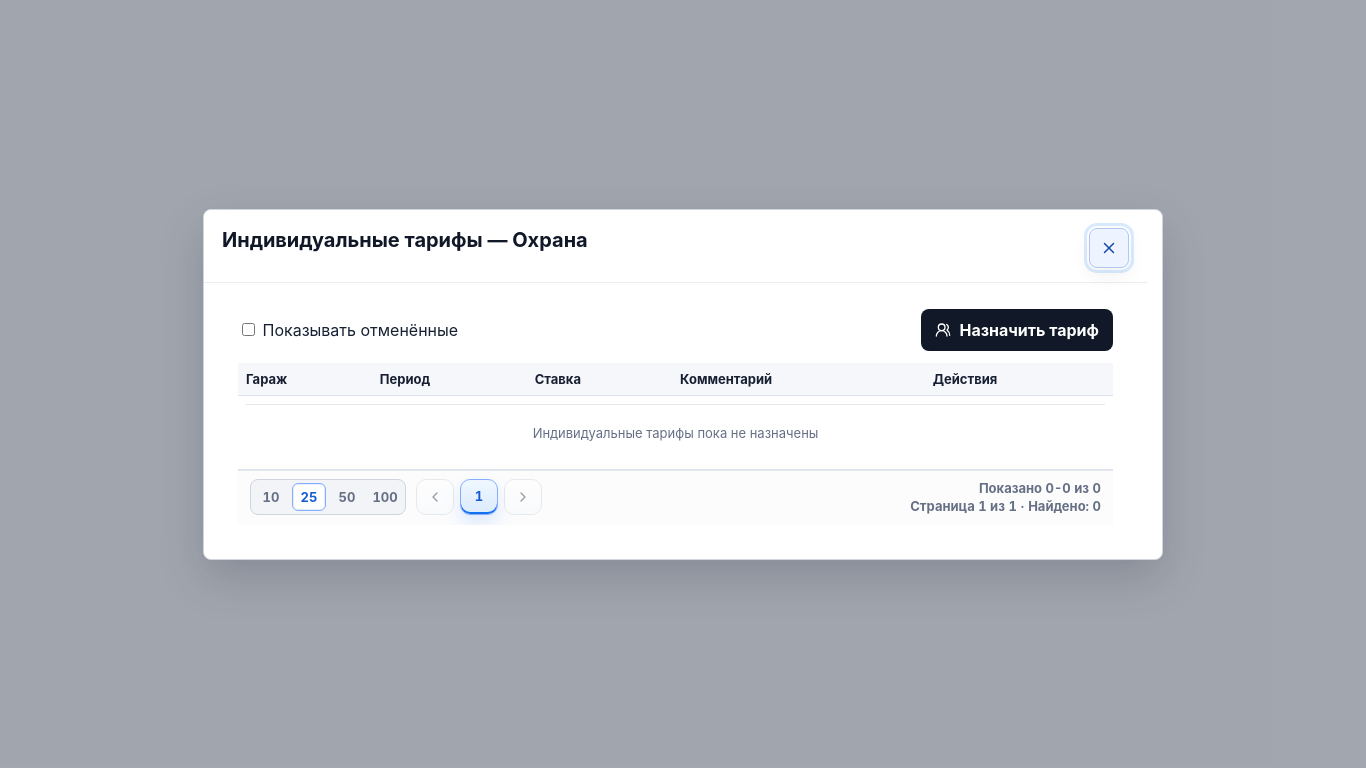
Scenario: retries garage loading and ignores an aborted search response
Click the button "Назначить тариф".
click(1017, 330)  # box [921,308,1113,350]
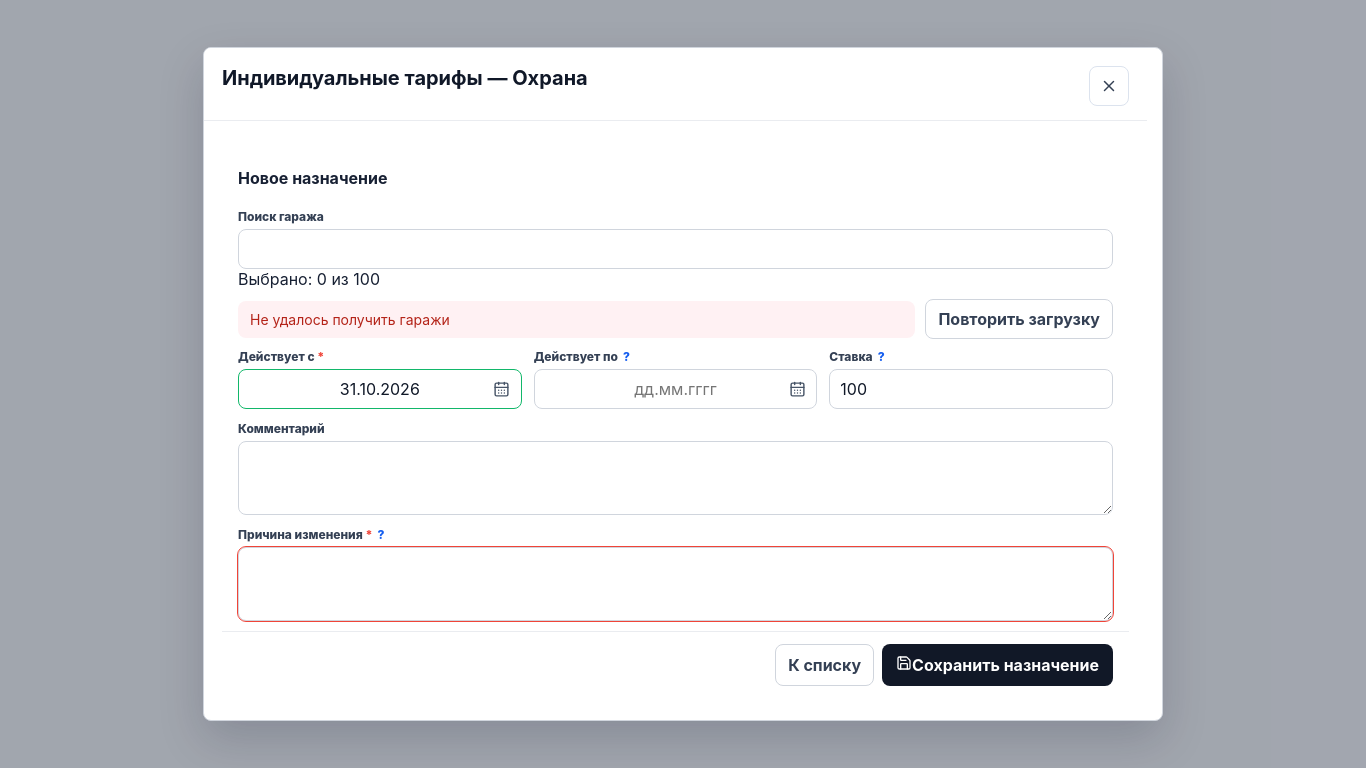
Click the button "Повторить загрузку".
click(1019, 319)  # box [925,299,1113,339]
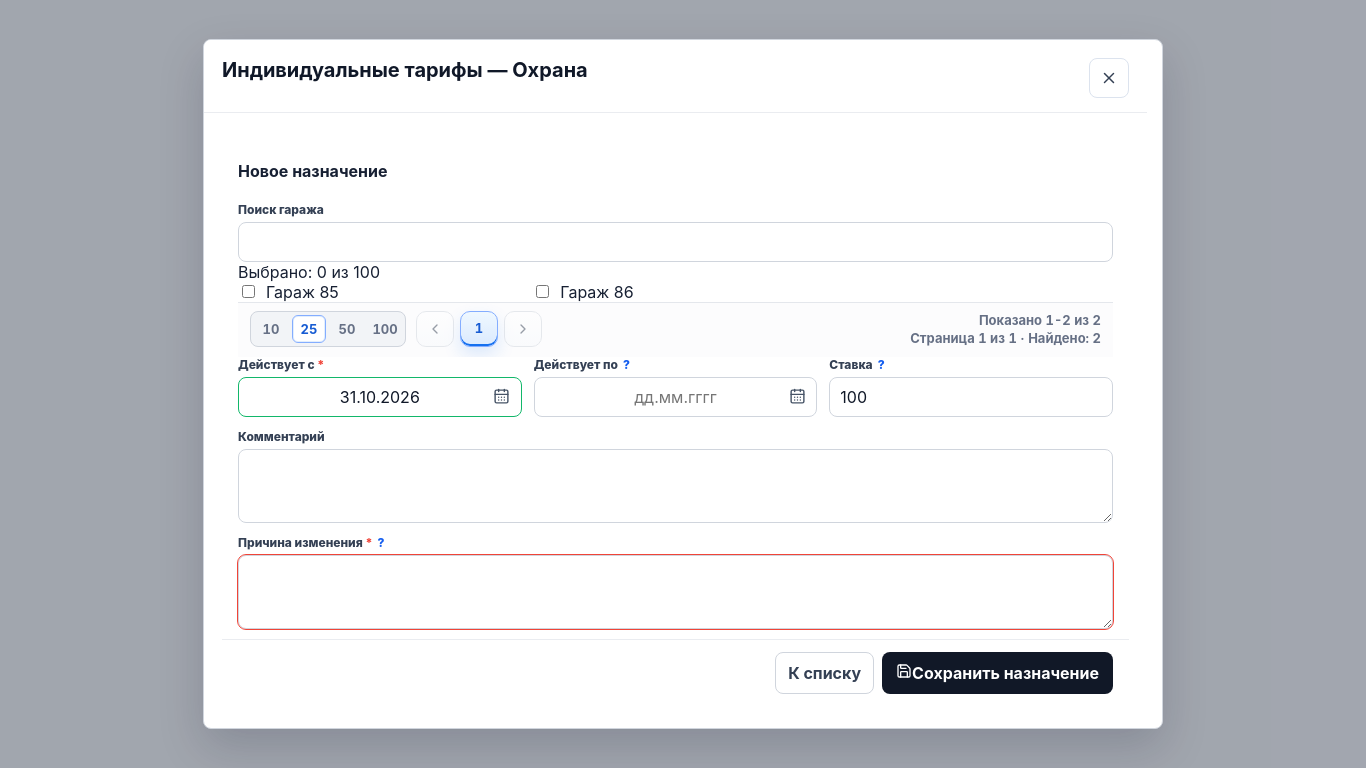
Result: the checkbox named "Выбрать гараж 85" is shown at [242,285,255,298]
Type "85" into the field named "Поиск гаража для тарифа".
click(676, 242); type("85")  # box [238,222,1113,262]
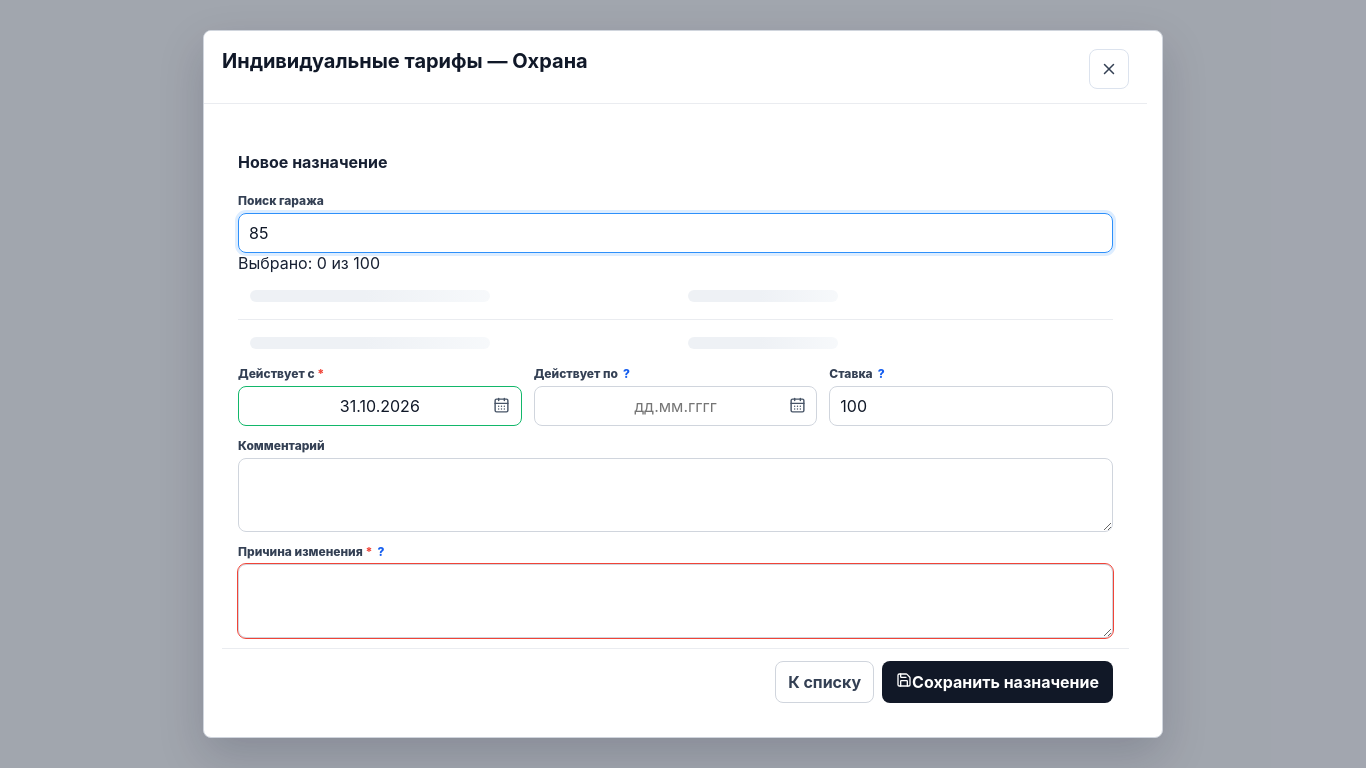
Replace the text in the field named "Поиск гаража для тарифа" with "86" at [676, 233], box [238,213,1113,253]
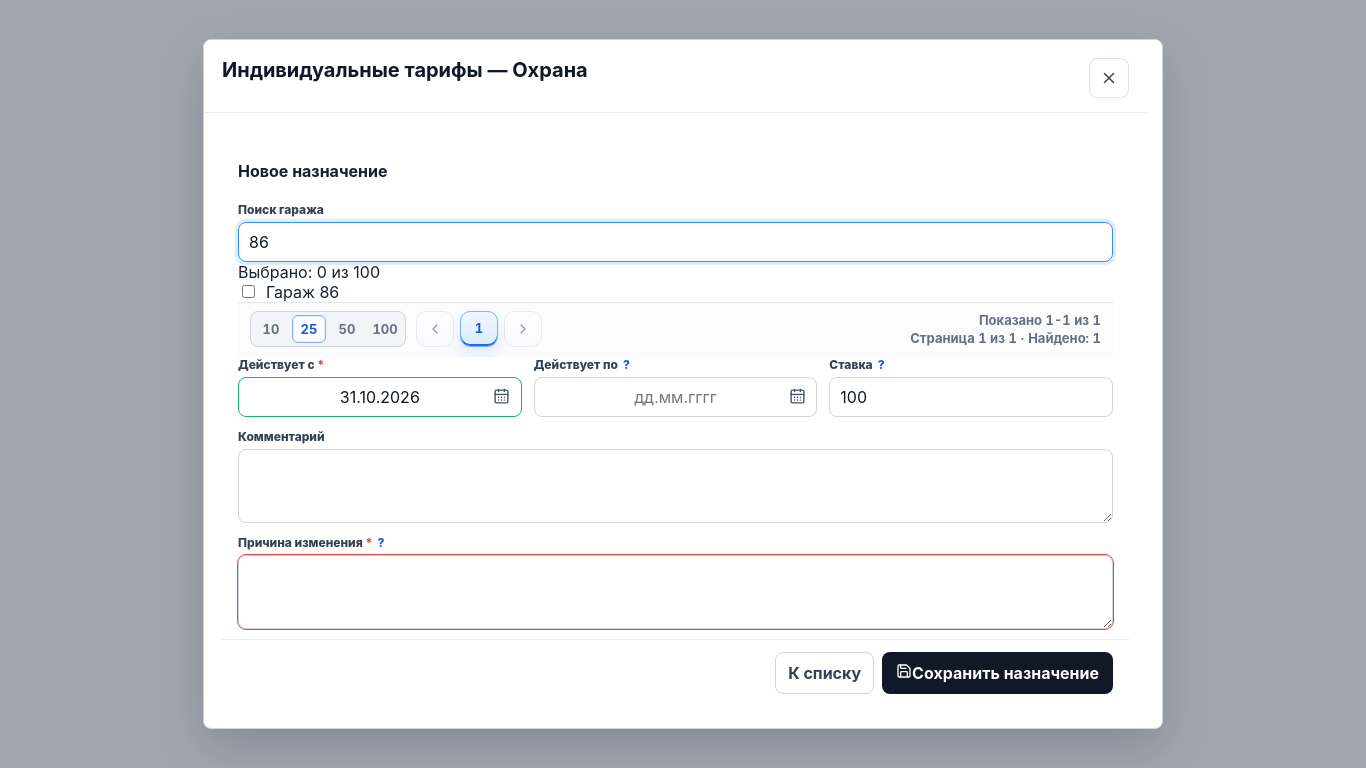
Result: the checkbox named "Выбрать гараж 86" is shown at [242,285,255,298]
